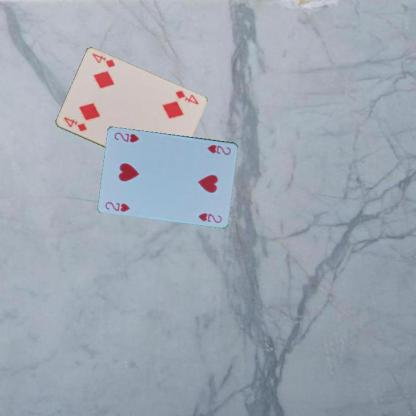2h: (103, 198, 131, 212), (205, 142, 232, 156)
4d: (173, 88, 199, 106), (61, 115, 88, 132)
